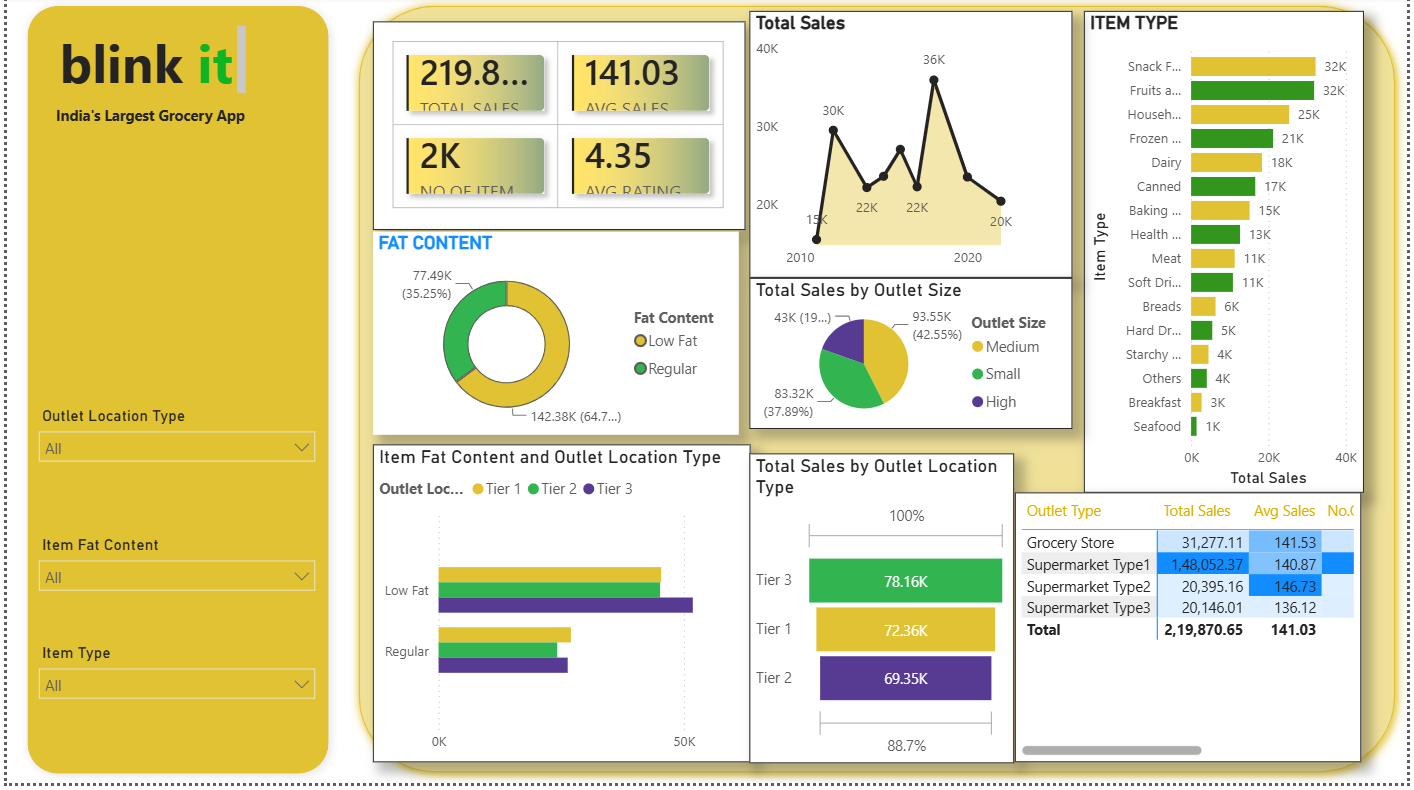

This screenshot's page, from the dashboard's own definition file:
{"tool":"powerbi","page":{"name":"Page 1","canvas":[1280,720],"ordinal":0},"visuals":[{"type":"shape","box":[9.6,0,293.7,720.5],"z":0},{"type":"textbox","box":[39.8,22,183.9,72.7],"z":1000},{"type":"textbox","box":[39.8,94.7,218.2,54.9],"z":2000},{"type":"shape","box":[313.4,0,966.1,719.2],"z":3000},{"type":"cardVisual","fields":{"Data":["BlinkIT Grocery Data.Total Sales","BlinkIT Grocery Data.Avg Sales","BlinkIT Grocery Data.No.Of item sold","BlinkIT Grocery Data.Avg Rating"]},"box":[334.6,22.7,340.7,190.8],"z":4000},{"type":"donutChart","title":"FAT CONTENT","fields":{"Y":["BlinkIT Grocery Data.Total Sales"],"Category":["BlinkIT Grocery Data.Item Fat Content"]},"box":[334.6,215,334.6,186.2],"z":5000},{"type":"clusteredBarChart","title":"ITEM TYPE ","fields":{"Y":["BlinkIT Grocery Data.Total Sales"],"Category":["BlinkIT Grocery Data.Item Type"]},"box":[985.7,13.6,255.9,440.6],"z":6000},{"type":"clusteredBarChart","title":" Item Fat Content and Outlet Location Type","fields":{"Category":["BlinkIT Grocery Data.Item Fat Content"],"Series":["BlinkIT Grocery Data.Outlet Location Type"],"Y":["BlinkIT Grocery Data.Total Sales"]},"box":[334.6,410.3,345.2,290.7],"z":7000},{"type":"lineChart","title":"Total Sales ","fields":{"Y":["BlinkIT Grocery Data.Total Sales"],"Category":["BlinkIT Grocery Data.Outlet Establishment Year"]},"box":[679.3,13.7,295.1,244.3],"z":8000},{"type":"pieChart","fields":{"Y":["BlinkIT Grocery Data.Total Sales"],"Category":["BlinkIT Grocery Data.Outlet Size"]},"box":[679.9,257.4,295.3,137.8],"z":9000},{"type":"slicer","fields":{"Values":["BlinkIT Grocery Data.Outlet Location Type"]},"box":[19.7,371,272.6,101.5],"z":10000},{"type":"funnel","fields":{"Y":["BlinkIT Grocery Data.Total Sales"],"Category":["BlinkIT Grocery Data.Outlet Location Type"]},"box":[679.9,417.9,242.3,283.2],"z":11000},{"type":"slicer","fields":{"Values":["BlinkIT Grocery Data.Item Fat Content"]},"box":[19.7,489.1,272.6,80.3],"z":12000},{"type":"slicer","fields":{"Values":["BlinkIT Grocery Data.Item Type"]},"box":[19.7,587.5,272.6,72.7],"z":13000},{"type":"pivotTable","fields":{"Rows":["BlinkIT Grocery Data.Outlet Type"],"Values":["BlinkIT Grocery Data.Total Sales","BlinkIT Grocery Data.Avg Sales","BlinkIT Grocery Data.No.Of item sold","BlinkIT Grocery Data.Avg Rating"]},"box":[922.2,454.3,316.5,246.8],"z":14000}]}

Visuals, with their boxes in screenshot pixels (x1, y1, x2, y2), scaled from the page's 1280x720 canvas onto the 1414x790 screenshot:
shape: (11,0,335,789)
textbox: (44,24,247,104)
textbox: (44,104,285,164)
shape: (346,0,1413,789)
cardVisual - BlinkIT Grocery Data.Total Sales x BlinkIT Grocery Data.Avg Sales: (370,25,746,234)
"FAT CONTENT" donutChart: (370,236,739,440)
"ITEM TYPE " clusteredBarChart: (1089,15,1372,498)
" Item Fat Content and Outlet Location Type" clusteredBarChart: (370,450,751,769)
"Total Sales " lineChart: (750,15,1076,283)
pieChart - BlinkIT Grocery Data.Total Sales x BlinkIT Grocery Data.Outlet Size: (751,282,1077,434)
slicer - BlinkIT Grocery Data.Outlet Location Type: (22,407,323,518)
funnel - BlinkIT Grocery Data.Total Sales x BlinkIT Grocery Data.Outlet Location Type: (751,459,1019,769)
slicer - BlinkIT Grocery Data.Item Fat Content: (22,537,323,625)
slicer - BlinkIT Grocery Data.Item Type: (22,645,323,724)
pivotTable - BlinkIT Grocery Data.Outlet Type x BlinkIT Grocery Data.Total Sales: (1019,498,1368,769)
